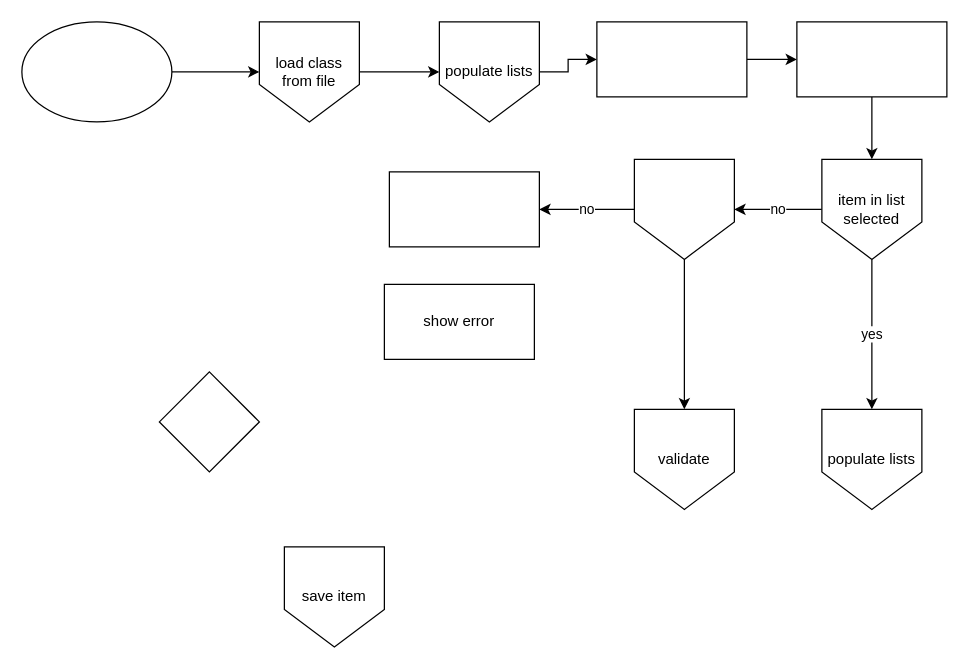
Image size: 969x669. Some labels were removed from this diagram. Here are the shapes that lost their labels. From the top down, the centre of each, then its label:
point 96,71: Start
point 671,59: open form with text boxes unpopulated
point 871,59: program
point 683,208: add button clicked
